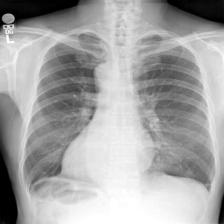normal: (20, 26, 218, 199)
